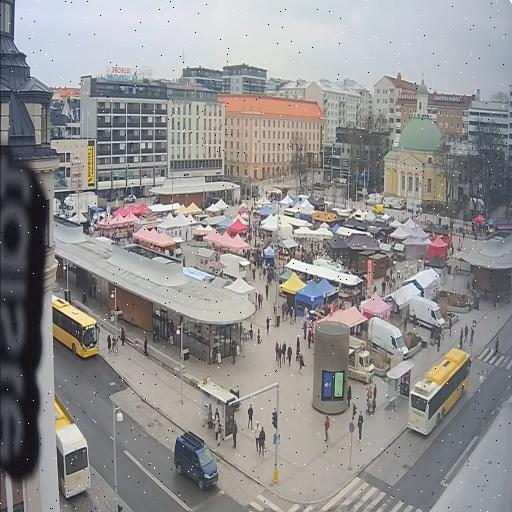Bus: (407, 348, 470, 435), (54, 395, 89, 498), (52, 296, 98, 357)
Delivery: (174, 431, 217, 489), (367, 317, 407, 359), (348, 336, 373, 383), (408, 296, 444, 328)
